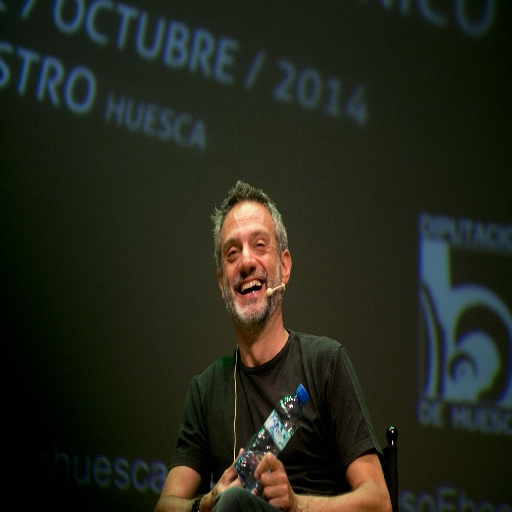hand: (201, 448, 256, 511), (244, 449, 292, 497)
